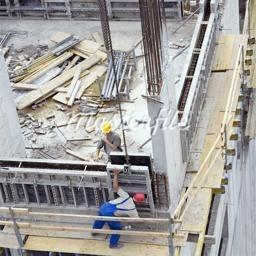hat: (99, 118, 117, 142), (132, 188, 150, 210)
no vest: (104, 192, 137, 234), (94, 134, 138, 161)
